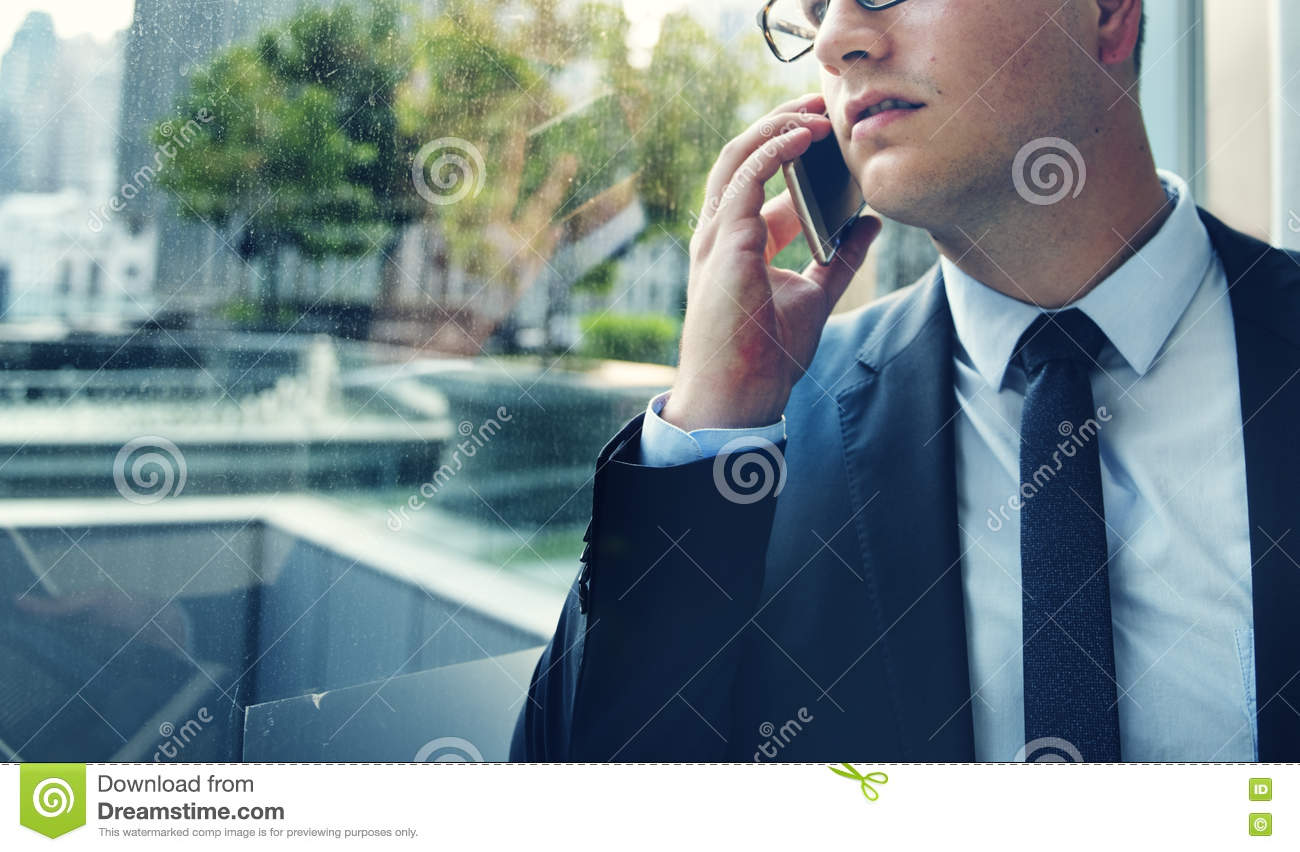phone: (778, 105, 869, 272)
